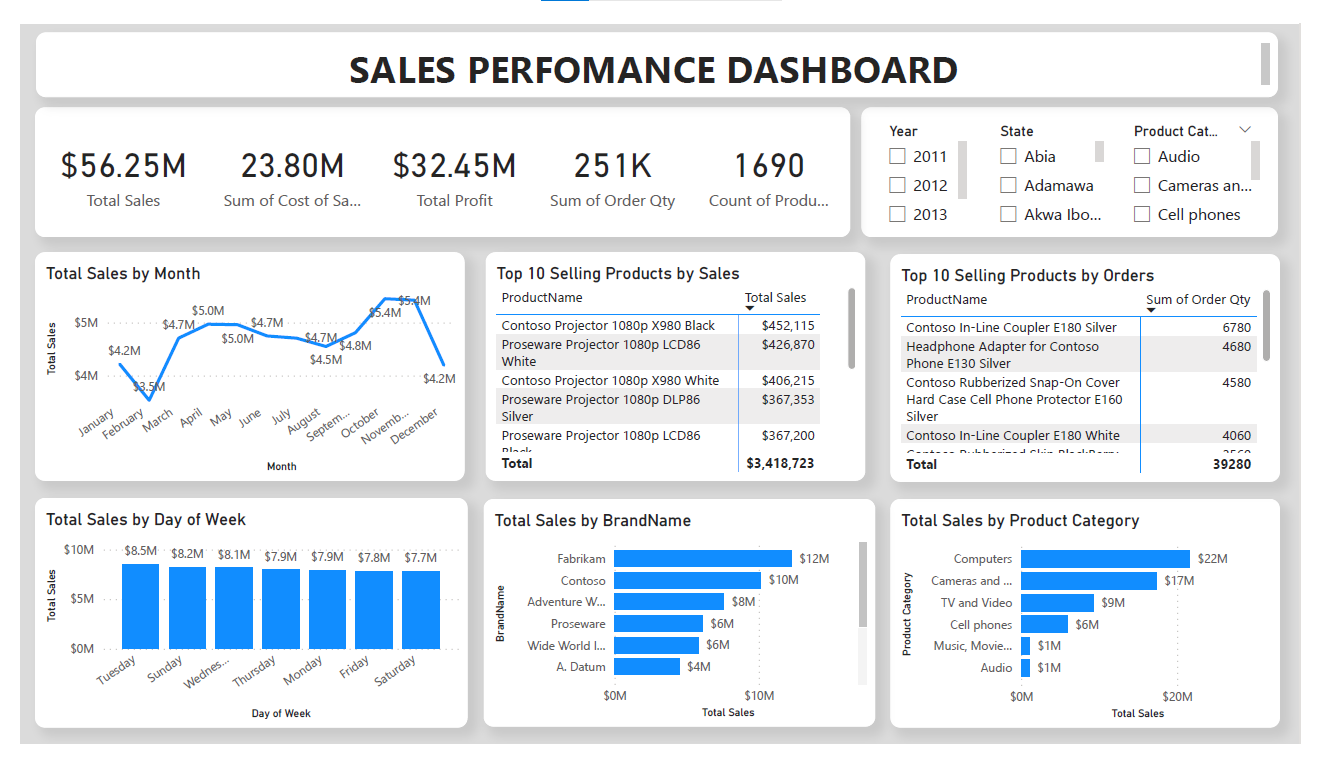

This screenshot's page, from the dashboard's own definition file:
{"tool":"powerbi","page":{"name":"Main","canvas":[1280,720],"ordinal":0},"visuals":[{"type":"shape","box":[841.4,82.8,417.1,130],"z":0,"group":"g1"},{"type":"shape","box":[14.3,82.8,815.7,130],"z":1000,"group":"g1"},{"type":"card","fields":{"Values":["SalesData.Total Sales"]},"box":[25,93,153.3,110],"z":2000,"group":"g1"},{"type":"card","fields":{"Values":["Sum(SalesData.Cost of Sales)"]},"box":[195,93,151.7,110],"z":3000,"group":"g1"},{"type":"card","fields":{"Values":["SalesData.Total Profit"]},"box":[358.3,93,150,110],"z":4000,"group":"g1"},{"type":"card","fields":{"Values":["Sum(SalesData.Order Qty)"]},"box":[521.7,93,140,110],"z":5000,"group":"g1"},{"type":"card","fields":{"Values":["Count(SalesProduct.ProductName)"]},"box":[680,93,135,110],"z":6000,"group":"g1"},{"type":"textbox","box":[15,8.3,1243.3,65],"z":7000,"group":"g1"},{"type":"lineChart","fields":{"Category":["SalesData.Order Date.Variation.Date Hierarchy.Month"],"Y":["SalesData.Total Sales"]},"box":[14.3,228.5,430,228.6],"z":8000,"group":"g1"},{"type":"clusteredColumnChart","fields":{"Category":["SalesData.Day of Week"],"Y":["SalesData.Total Sales"]},"box":[14.3,473.9,432.9,230],"z":9000,"group":"g1"},{"type":"pivotTable","title":"Top 10 Selling Products by Sales","fields":{"Rows":["SalesProduct.ProductName"],"Values":["SalesData.Total Sales"]},"box":[465.7,228.5,380,228.6],"z":10000,"group":"g1"},{"type":"barChart","fields":{"Category":["ProductSubCategory.Product Category"],"Y":["SalesData.Total Sales"]},"box":[870,475.3,390,228.6],"z":11000,"group":"g1"},{"type":"pivotTable","title":"Top 10 Selling Products by Orders","fields":{"Rows":["SalesProduct.ProductName"],"Values":["Sum(SalesData.Order Qty)"]},"box":[870,230,390,228],"z":12000,"group":"g1"},{"type":"slicer","fields":{"Values":["SalesData.Order Date.Variation.Date Hierarchy.Year"]},"box":[855.7,93.7,96.4,109.3],"z":13000,"group":"g1"},{"type":"slicer","fields":{"Values":["ProductSubCategory.Product Category"]},"box":[1100,93,145.7,110],"z":14000,"group":"g1"},{"type":"slicer","fields":{"Values":["SalesState.State"]},"box":[966.4,93,122.9,110],"z":15000,"group":"g1"},{"type":"clusteredBarChart","fields":{"Category":["SalesProduct.BrandName"],"Y":["SalesData.Total Sales"]},"box":[463.3,475.1,391.7,228.3],"z":16000,"group":"g1"},{"type":"group","id":"g1","title":"Group 1","box":[14.3,8.3,1245.7,695.6],"z":16001}]}

Visuals, with their boxes in screenshot pixels (x1, y1, x2, y2), scaled from the page's 1280x720 canvas onto the 1325x768 screenshot:
shape: rect(871, 88, 1303, 227)
shape: rect(15, 88, 859, 227)
card - SalesData.Total Sales: rect(26, 99, 185, 217)
card - Sum(SalesData.Cost of Sales): rect(202, 99, 359, 217)
card - SalesData.Total Profit: rect(371, 99, 526, 217)
card - Sum(SalesData.Order Qty): rect(540, 99, 685, 217)
card - Count(SalesProduct.ProductName): rect(704, 99, 844, 217)
textbox: rect(16, 9, 1303, 78)
lineChart - SalesData.Order Date.Variation.Date Hierarchy.Month x SalesData.Total Sales: rect(15, 244, 460, 488)
clusteredColumnChart - SalesData.Day of Week x SalesData.Total Sales: rect(15, 505, 463, 751)
"Top 10 Selling Products by Sales" pivotTable: rect(482, 244, 875, 488)
barChart - ProductSubCategory.Product Category x SalesData.Total Sales: rect(901, 507, 1304, 751)
"Top 10 Selling Products by Orders" pivotTable: rect(901, 245, 1304, 489)
slicer - SalesData.Order Date.Variation.Date Hierarchy.Year: rect(886, 100, 986, 217)
slicer - ProductSubCategory.Product Category: rect(1139, 99, 1289, 217)
slicer - SalesState.State: rect(1000, 99, 1128, 217)
clusteredBarChart - SalesProduct.BrandName x SalesData.Total Sales: rect(480, 507, 885, 750)
"Group 1" group: rect(15, 9, 1304, 751)
